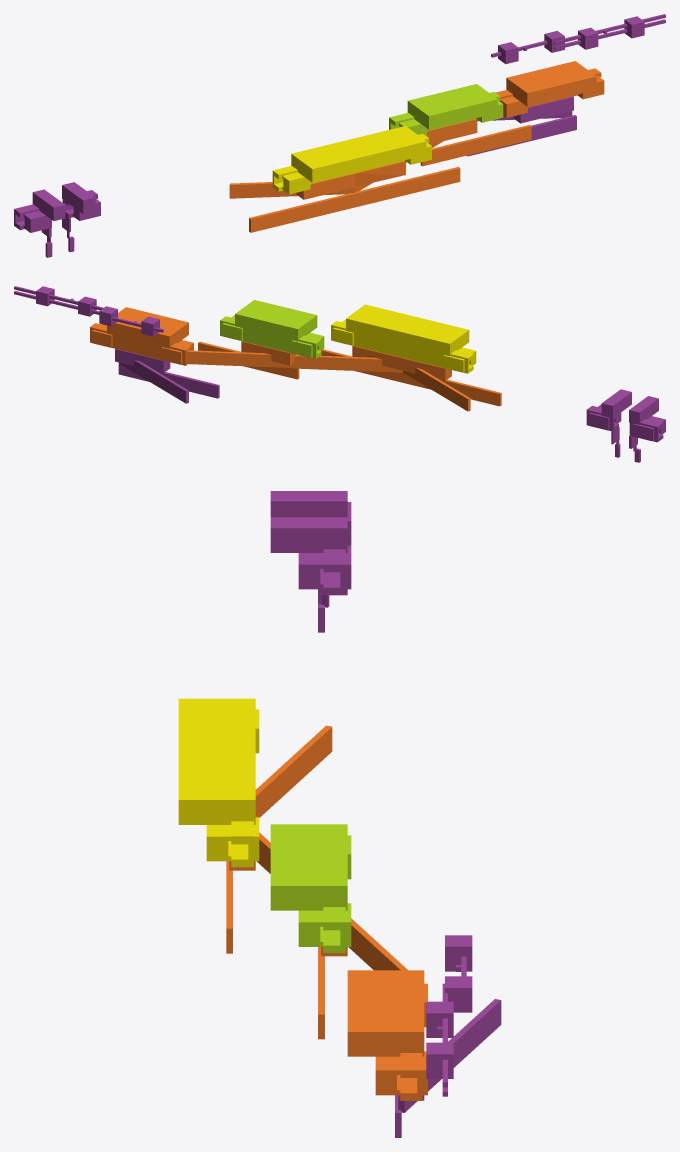
The model's file is control_station_v2.obj.
3 renders of one model, top to bottom at view 1: azimuth 30°, elevation 25°; view 2: azimuth 150°, elevation 25°; view 3: azimuth 270°, elevation 25°, orthographic. The views are drawn at different scales.
Visible parts, largest first — view 1: Object.13, Object.9, Object.10, Object.11, Object.12, Object.3, Object.4, Object.8, Object.6; view 2: Object.13, Object.9, Object.11, Object.12, Object.4, Object.10, Object.3, Object.8, Object.6; view 3: Object.13, Object.9, Object.12, Object.6, Object.3, Object.11, Object.10, Object.8, Object.4.
Boxes of the visible parts, x1,y1,x2,y2 form: Object.13: (355,61,604,206); Object.9: (389,84,503,136); Object.10: (229,173,355,232); Object.11: (272,140,369,194); Object.12: (348,126,431,172); Object.3: (491,14,665,64); Object.4: (467,96,576,156); Object.8: (14,189,65,232); Object.6: (62,182,100,220); Object.13: (90,307,403,382); Object.9: (220,300,324,358); Object.11: (398,317,476,373); Object.12: (331,304,417,356); Object.4: (115,349,219,403); Object.10: (398,357,501,411); Object.3: (14,286,163,336); Object.8: (629,396,665,442); Object.6: (586,389,631,431); Object.13: (226,832,427,1100); Object.9: (270,824,351,952); Object.12: (178,749,259,867); Object.6: (270,517,351,595); Object.3: (426,935,472,1096); Object.11: (178,698,259,753); Object.10: (255,725,332,817); Object.8: (270,491,351,545); Object.4: (395,999,501,1137).
Size of the model in its own units: 10800 by 1265 by 2440.
